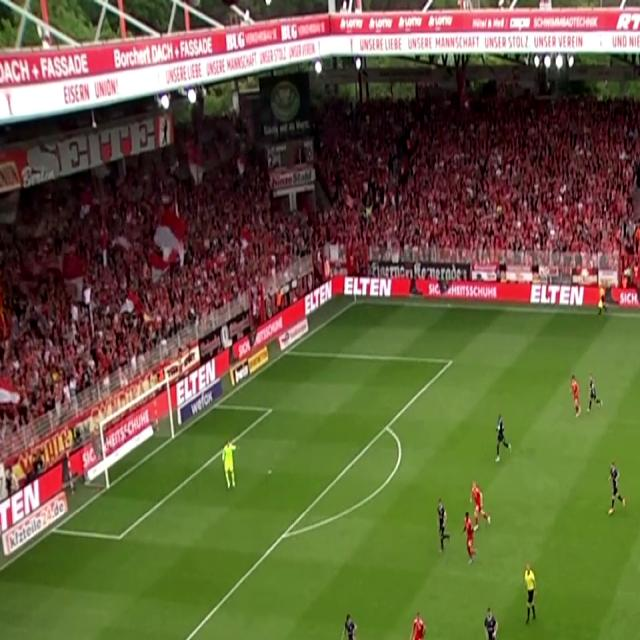goalkeeper: (22, 441, 81, 550), (218, 436, 241, 497)
referee: (521, 560, 544, 630)
soccer-player: (604, 460, 632, 522), (468, 478, 496, 533), (461, 510, 486, 570), (490, 408, 515, 466), (431, 496, 452, 557), (563, 372, 586, 424), (586, 370, 609, 419), (478, 604, 508, 640), (338, 609, 366, 640), (403, 609, 431, 640)
